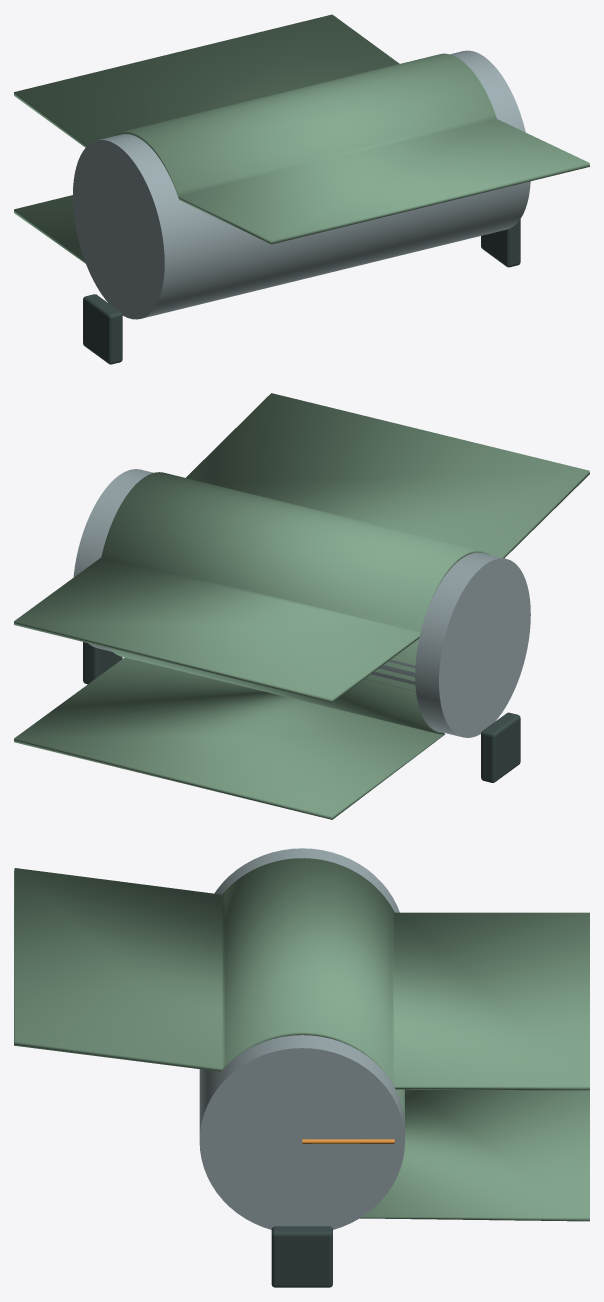
The model's file is roll-release.glb.
The picture shows the model from 3 angles, top to bottom: view 1: azimuth 30°, elevation 25°; view 2: azimuth 150°, elevation 25°; view 3: azimuth 270°, elevation 25°; orthographic projection. The views are drawn at different scales.
Parts seen in each view (by area): view 1: Sheet release path, Roller, Sheet release path.001, Roll support, Roll support.001; view 2: Sheet release path, Sheet release path.001, Roller, Roll support, Roll support.001; view 3: Sheet release path, Roller, Sheet release path.001, Roll support.001.
Boxes of the visible parts, bbox=[...] form: Sheet release path: bbox=[14, 14, 589, 244]; Roller: bbox=[73, 50, 530, 319]; Sheet release path.001: bbox=[14, 53, 493, 263]; Roll support: bbox=[83, 294, 122, 364]; Roll support.001: bbox=[481, 219, 520, 267]; Sheet release path: bbox=[14, 393, 589, 702]; Sheet release path.001: bbox=[14, 472, 587, 819]; Roller: bbox=[73, 469, 530, 737]; Roll support: bbox=[481, 712, 520, 782]; Roll support.001: bbox=[83, 642, 122, 684]; Sheet release path: bbox=[14, 858, 589, 1090]; Roller: bbox=[199, 848, 404, 1229]; Sheet release path.001: bbox=[26, 858, 589, 1221]; Roll support.001: bbox=[271, 1226, 332, 1287].
Size of the model in its own units: 5.18 by 2.48 by 5.61.
